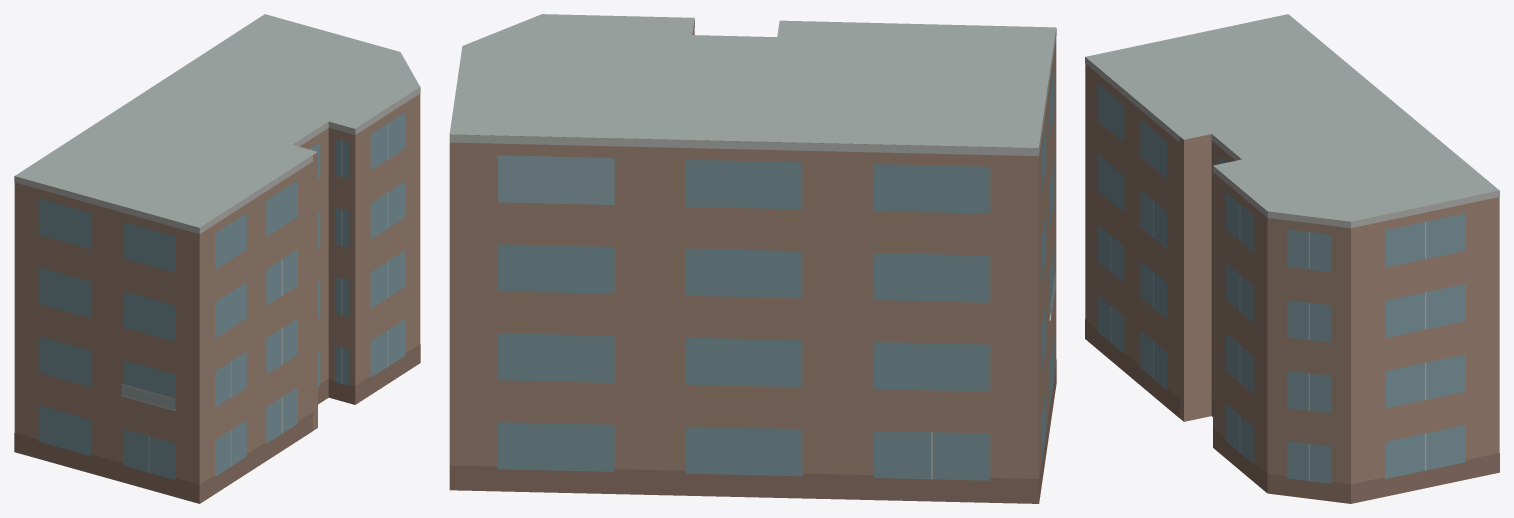
File: survey-upis-32742412.glb
3 renders of one model, left to right at view 1: azimuth 30°, elevation 25°; view 2: azimuth 150°, elevation 25°; view 3: azimuth 270°, elevation 25°, orthographic. The views are drawn at different scales.
Visible parts, largest first — view 1: survey-upis-32742412.tmp; view 2: survey-upis-32742412.tmp; view 3: survey-upis-32742412.tmp.
Part boxes in pixels (x1,y1,x2,y2): survey-upis-32742412.tmp: [14, 14, 420, 503]; survey-upis-32742412.tmp: [449, 14, 1056, 503]; survey-upis-32742412.tmp: [1085, 14, 1499, 503].
Bounding box in the file's own units: 16.91 × 10.7 × 14.26.
